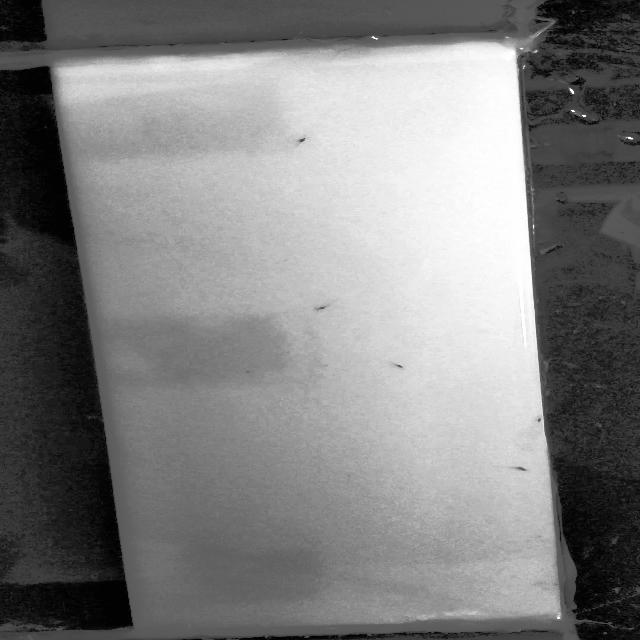shrimp: (311, 302, 345, 319), (383, 358, 408, 374), (289, 136, 317, 148), (501, 462, 528, 473), (527, 416, 548, 429)
